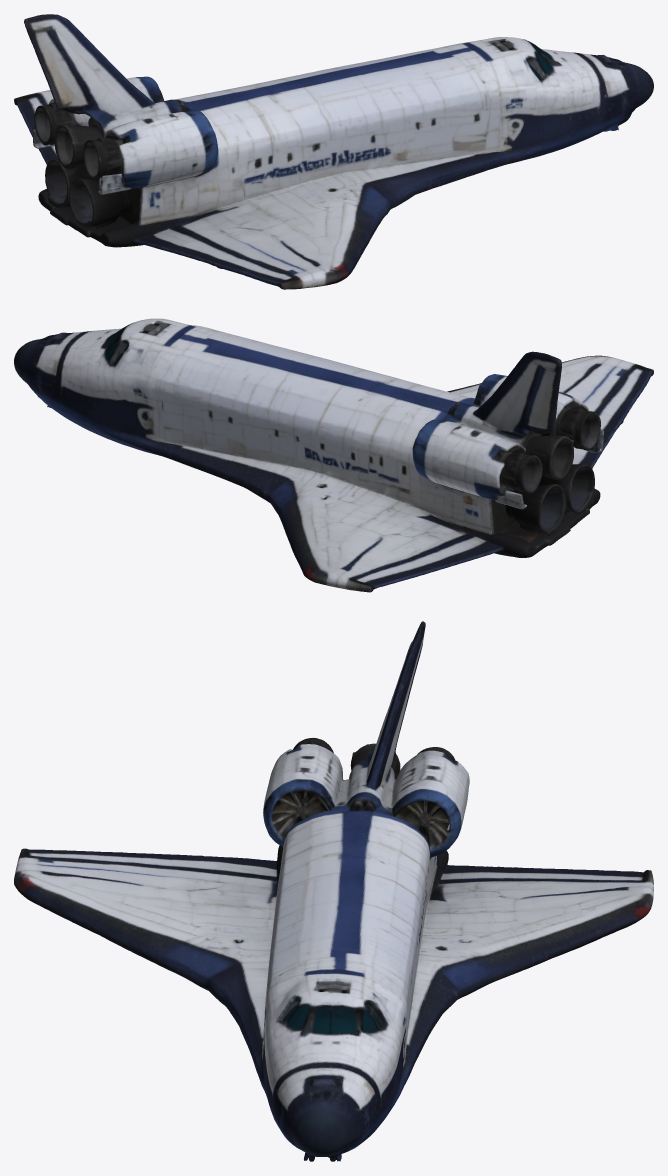
Rendered from helios_shuttle.glb.
The picture shows the model from 3 angles, top to bottom: view 1: azimuth 30°, elevation 25°; view 2: azimuth 150°, elevation 25°; view 3: azimuth 270°, elevation 25°; orthographic projection. The views are drawn at different scales.
Visible parts, largest first — view 1: shuttle; view 2: shuttle; view 3: shuttle.
Part boxes in pixels (<box>): shuttle: <box>14,14,653,289</box>; shuttle: <box>14,318,653,592</box>; shuttle: <box>14,621,653,1161</box>.
Bounding box in the file's own units: 3.3 × 1.12 × 2.73.
1 material, 1 textured.
